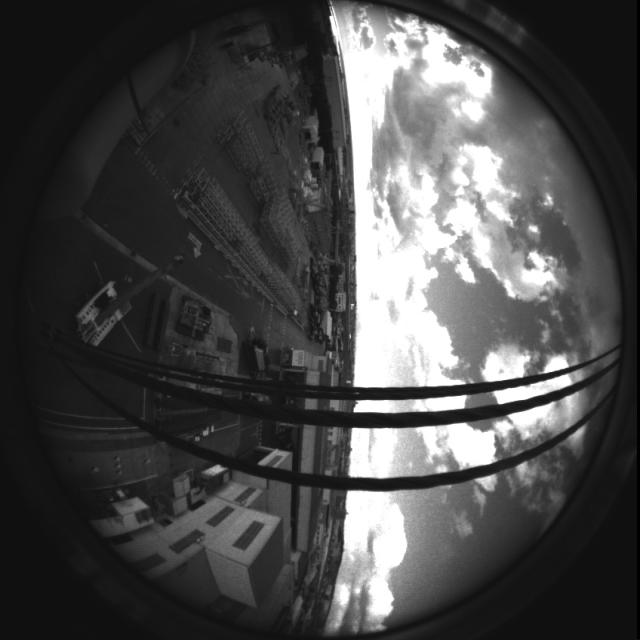rope: (19, 309, 629, 496)
sky: (321, 5, 623, 638)
